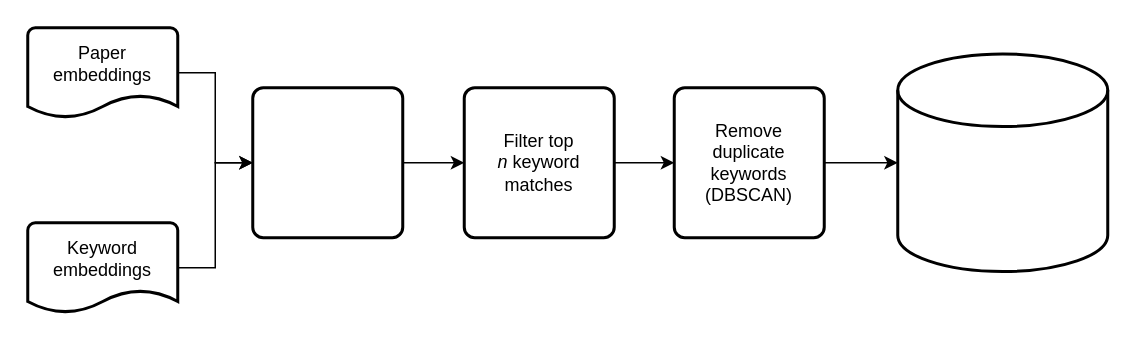
This 1134x339 diagram has some shape labels left out. Here are the shapes that lost their labels. From the top down, the centre of each, then its label:
At point (327, 162): "Cosine Similarity".
At point (1002, 162): "Top n keyword matches and match score for every paper".
